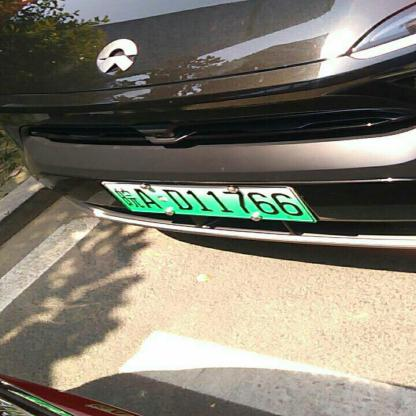lp: (101, 181, 316, 223)
